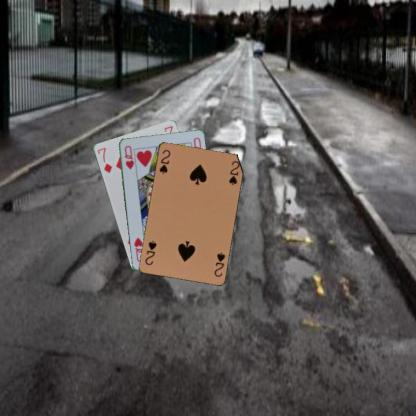2s: (156, 147, 172, 174), (211, 250, 226, 278)
7d: (95, 145, 113, 174)
Qh: (122, 143, 135, 170)
